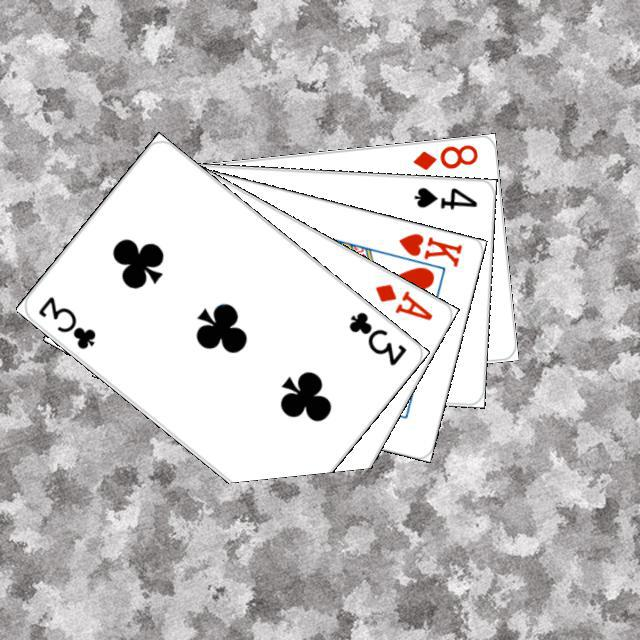3c: (343, 307, 409, 368), (33, 291, 98, 351)
4s: (409, 182, 479, 211)
8d: (408, 140, 479, 172)
Ad: (370, 278, 435, 323)
Kh: (383, 228, 464, 275)
